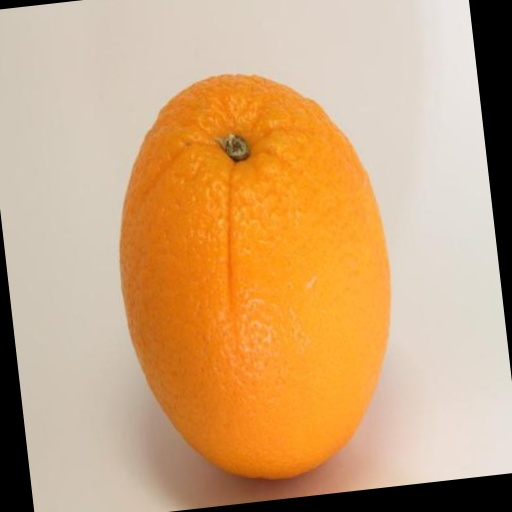fruit: (120, 76, 390, 478)
